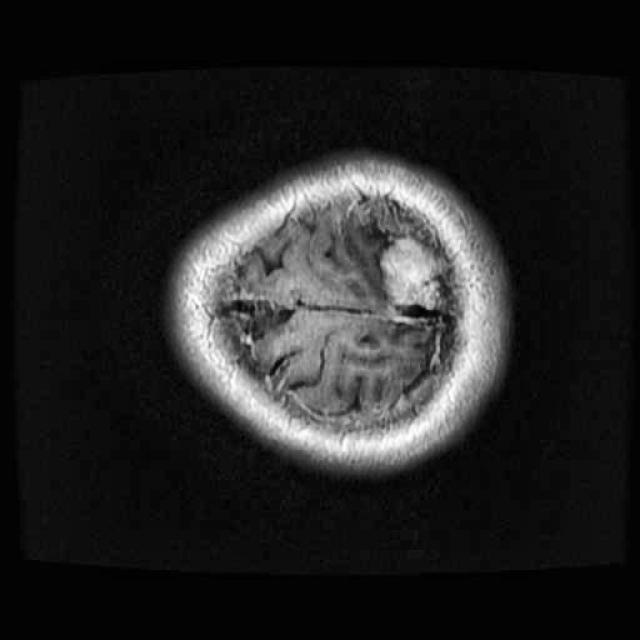Tumor: (368, 229, 464, 330)
